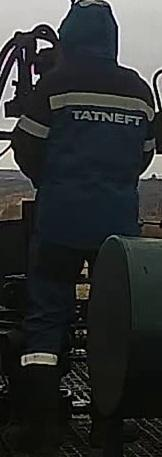vest: (26, 55, 152, 248)
